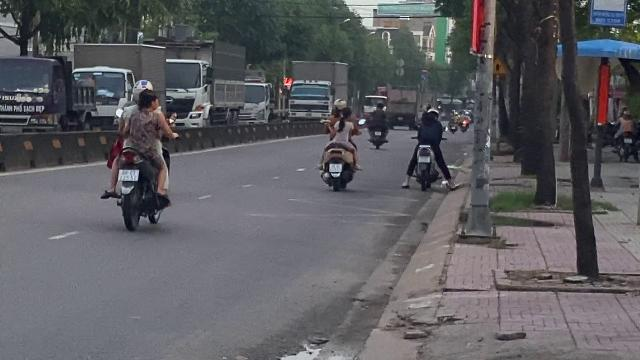helmet: (132, 79, 154, 93)
licenseplate: (118, 170, 138, 180)
motorcyclist: (100, 80, 174, 231)
nohelmet: (135, 89, 159, 111)
